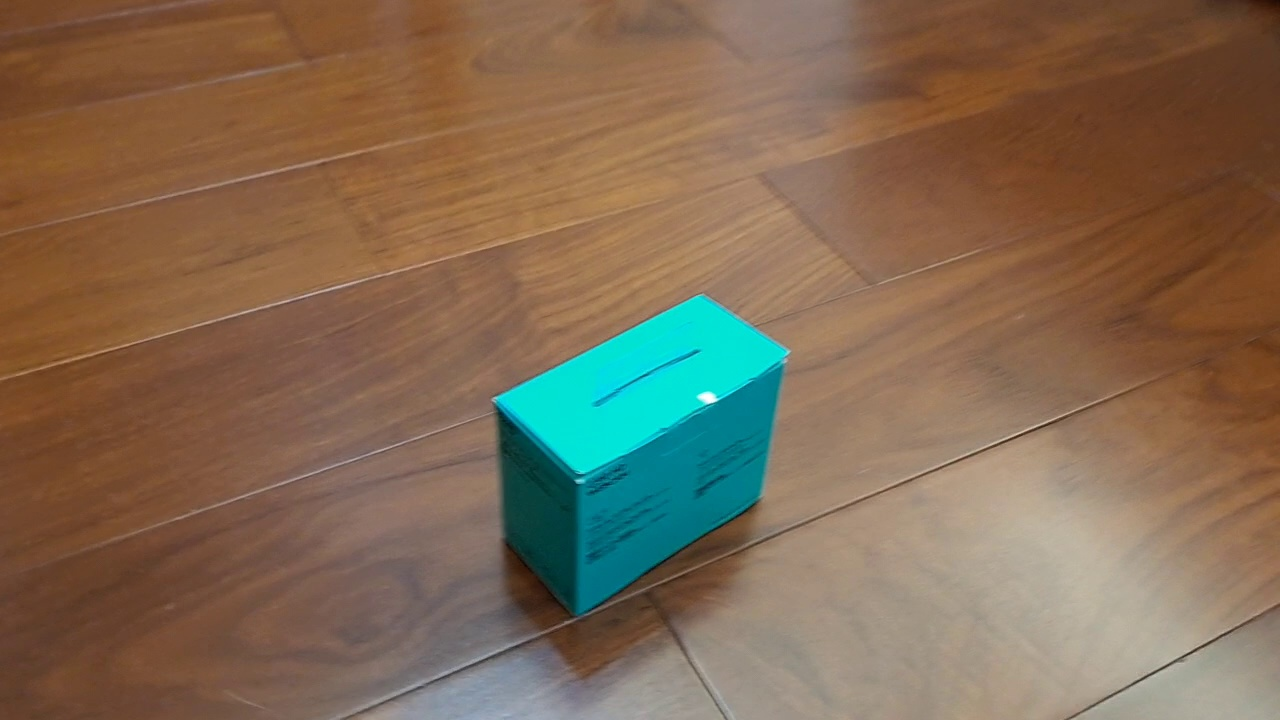webcam: (489, 291, 793, 620)
